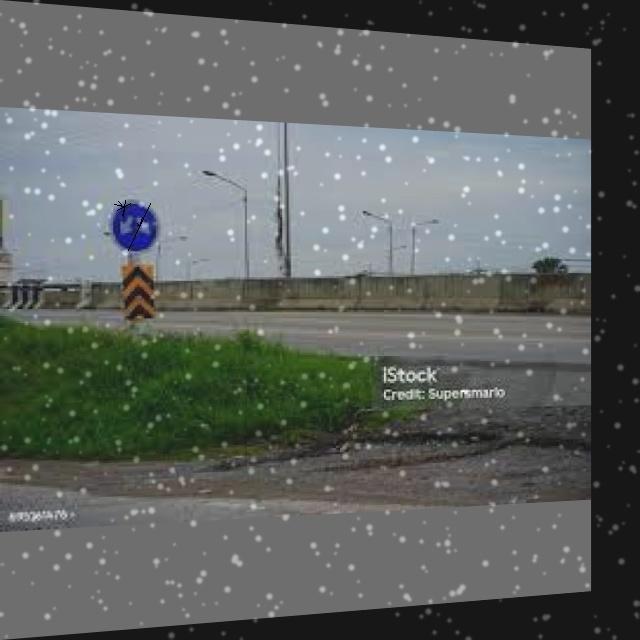Pass_Either_Side: (113, 198, 161, 252)
